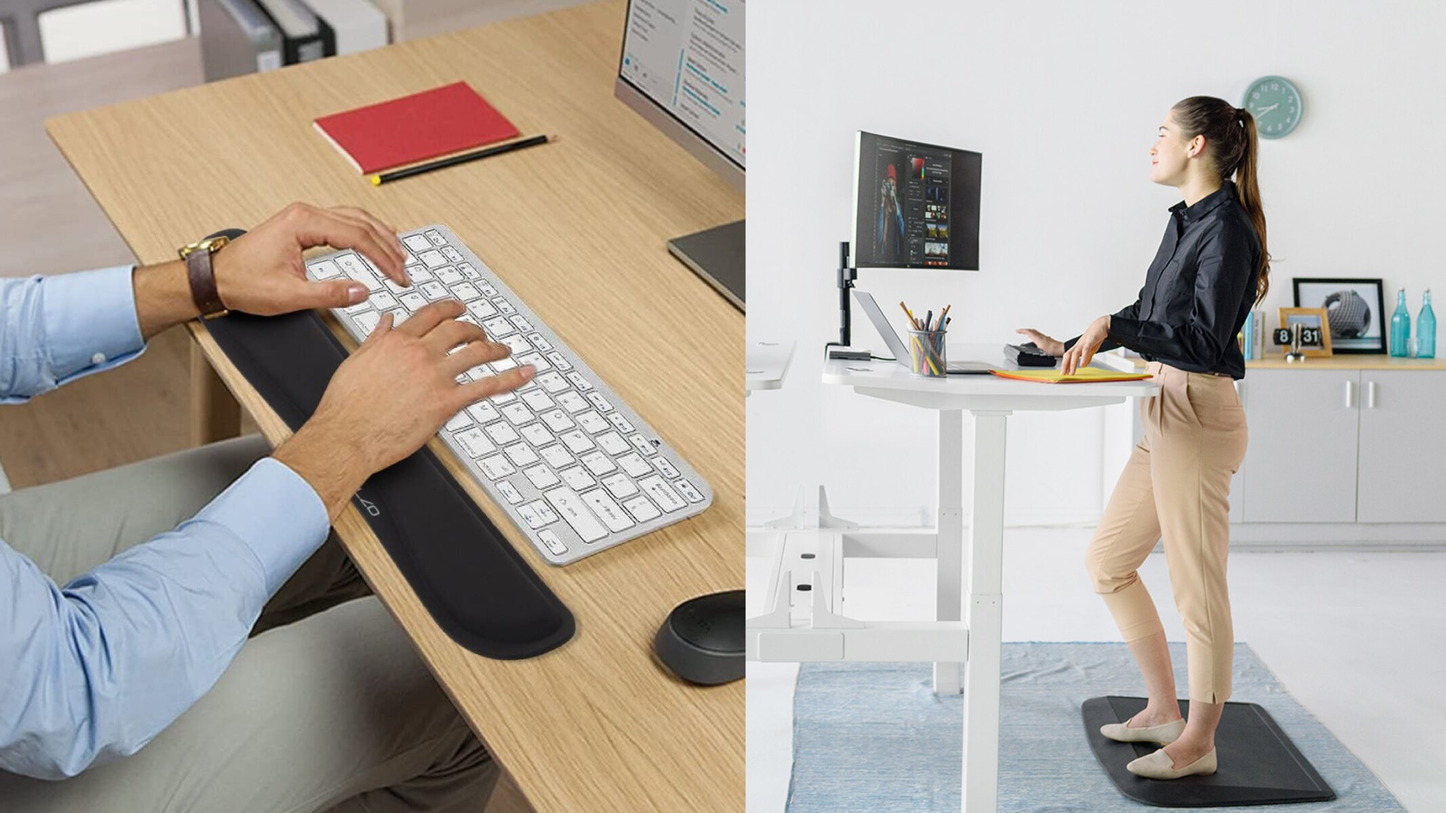not a gesture sign: (47, 0, 746, 417)
